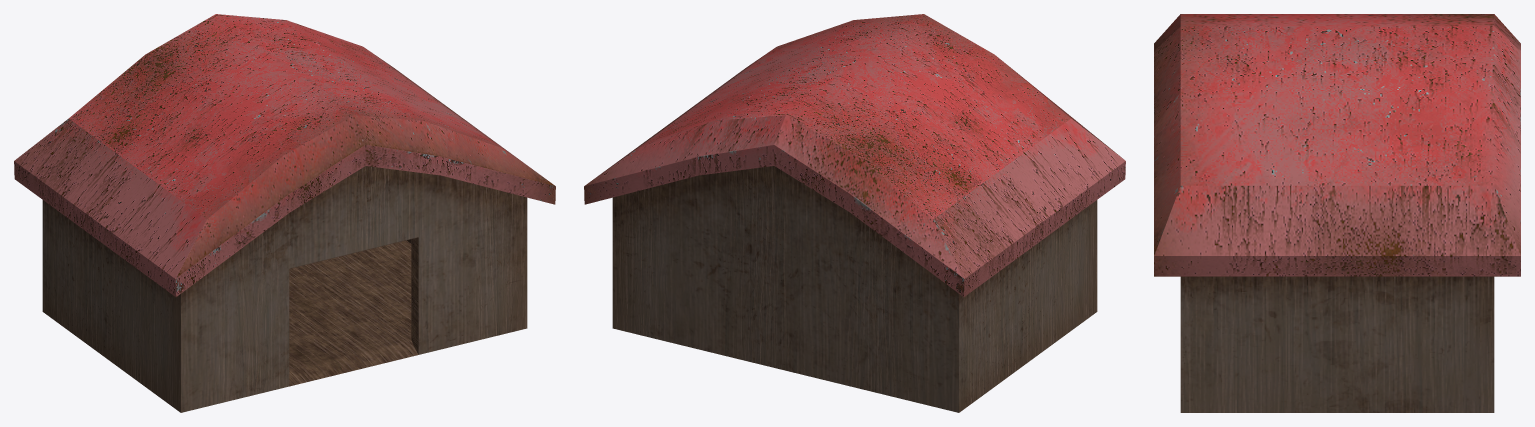
Rendered from House.fbx.
The picture shows the model from 3 angles, left to right: view 1: azimuth 30°, elevation 25°; view 2: azimuth 150°, elevation 25°; view 3: azimuth 270°, elevation 25°; orthographic projection. The views are drawn at different scales.
Parts seen in each view (by area): view 1: House; view 2: House; view 3: House.
Part boxes in pixels (left/top/right/bottom): House: left=14, top=14, right=555, bottom=412; House: left=584, top=14, right=1125, bottom=412; House: left=1154, top=14, right=1520, bottom=412.
Size of the model in its own units: 17.52 by 11.25 by 12.87.
Materials: 2 (2 with a texture image).
